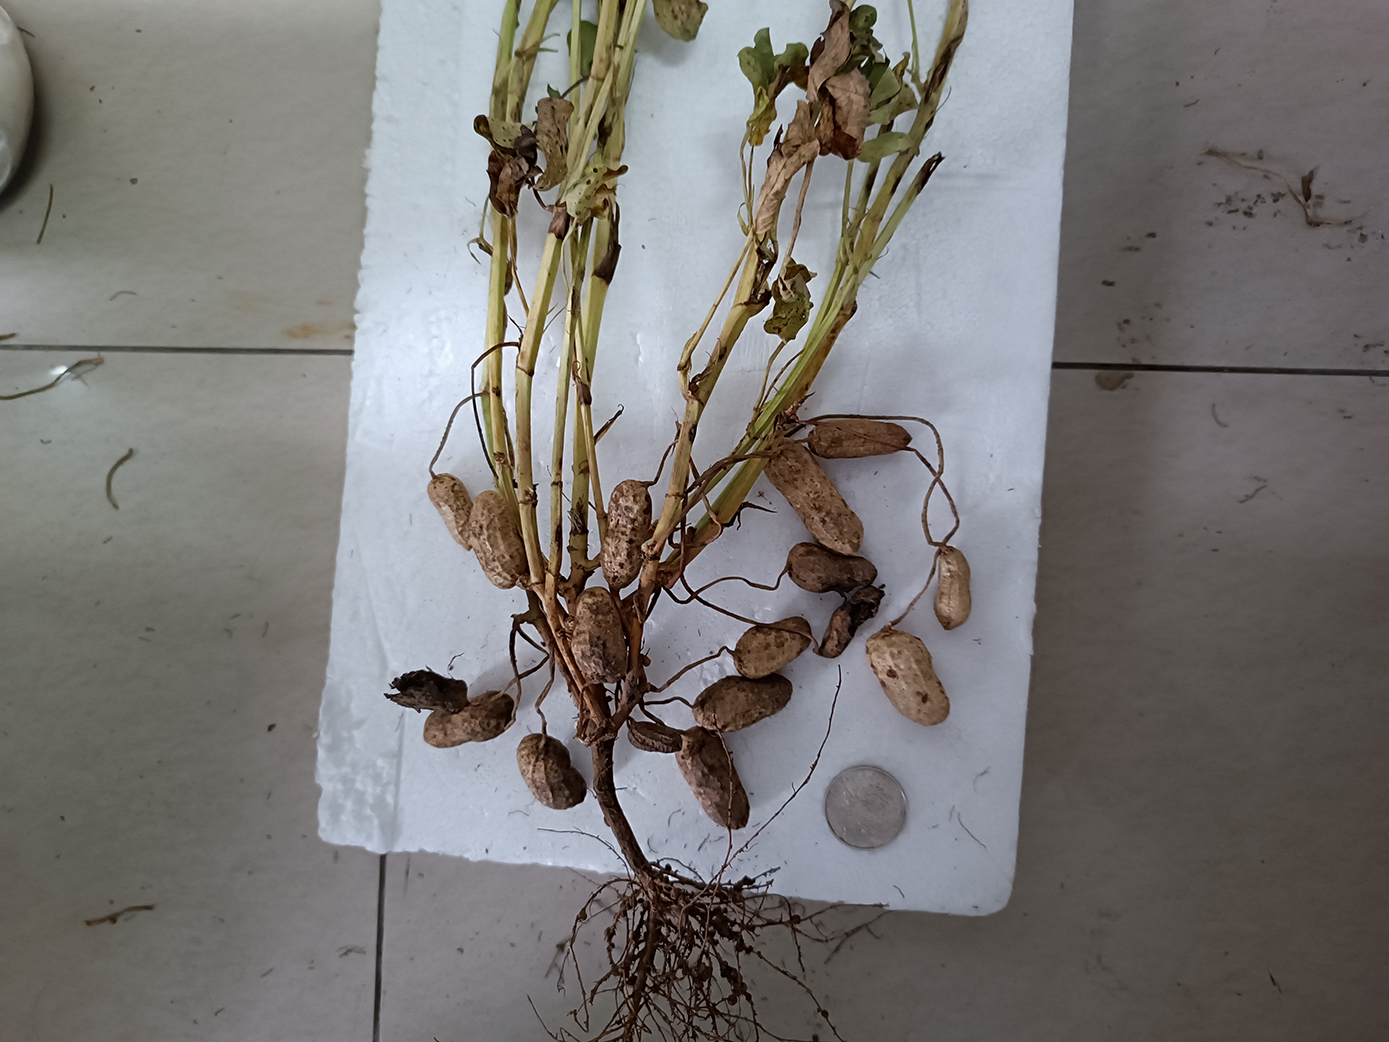h: (763, 437, 864, 557), (864, 629, 949, 726), (468, 489, 525, 589), (570, 587, 627, 684), (516, 732, 586, 810), (734, 616, 812, 680), (426, 473, 473, 552), (931, 547, 971, 629)
l: (674, 725, 749, 830), (691, 675, 792, 732), (600, 481, 653, 588), (423, 690, 516, 748), (786, 542, 877, 594), (821, 584, 886, 658), (383, 665, 467, 715), (808, 419, 912, 459), (627, 721, 682, 754)
